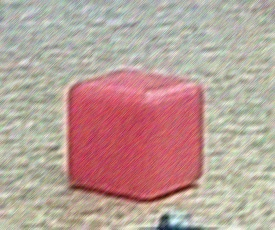orange_cube: (57, 64, 213, 207)
